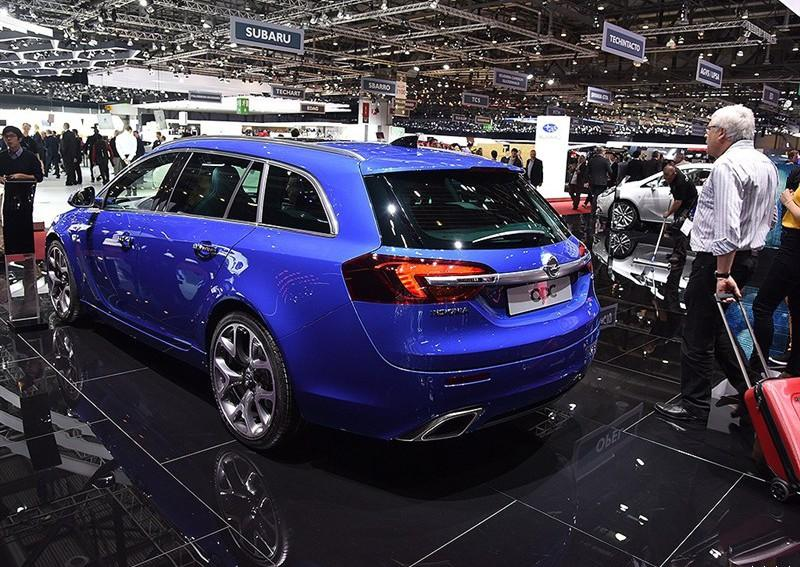Wagon: (42, 133, 603, 455)
